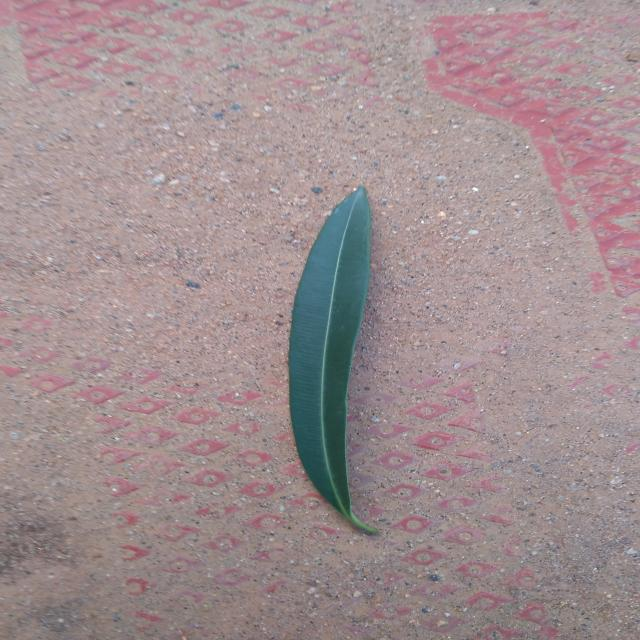ganigale: (289, 186, 378, 534)
